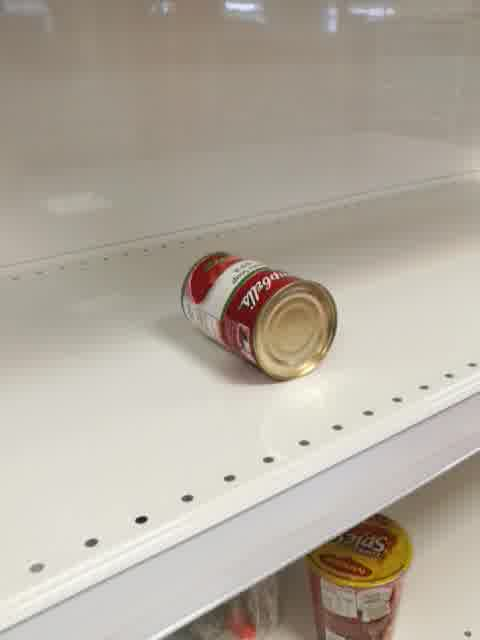tomatosoup: (176, 249, 338, 382)
